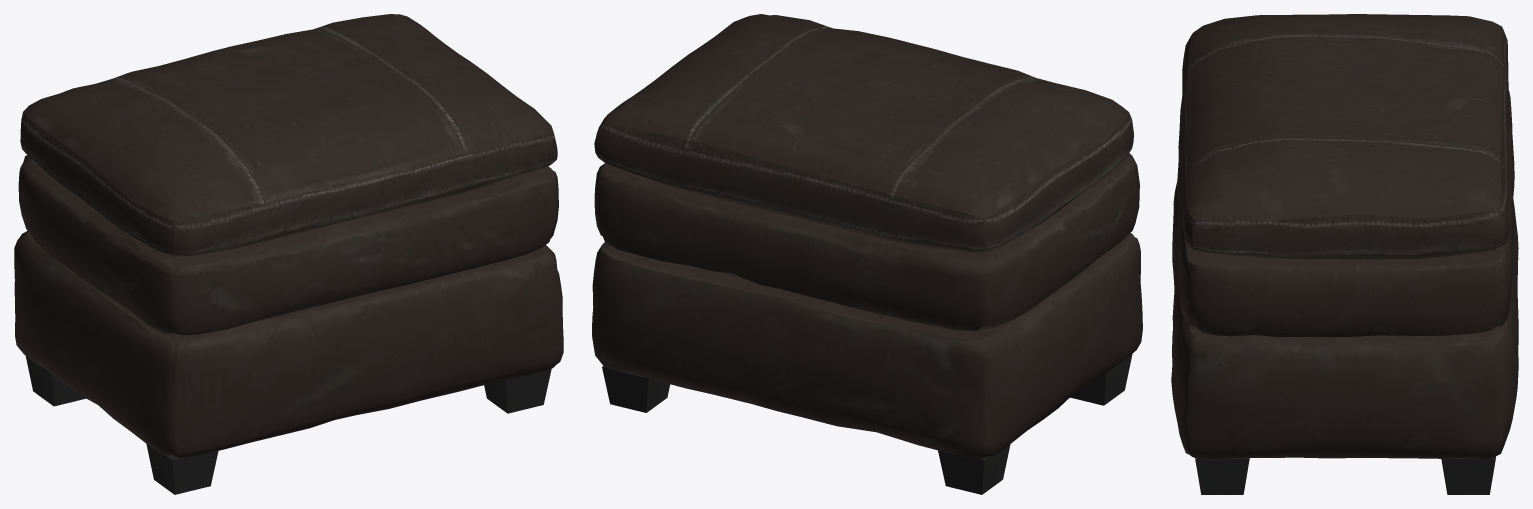
The model's file is Ottoman_01.glb.
3 renders of one model, left to right at view 1: azimuth 30°, elevation 25°; view 2: azimuth 150°, elevation 25°; view 3: azimuth 270°, elevation 25°, orthographic.
Parts seen in each view (by area): view 1: Ottoman_01; view 2: Ottoman_01; view 3: Ottoman_01.
Boxes of the visible parts, x1,y1,x2,y2 form: Ottoman_01: (14, 14, 563, 494); Ottoman_01: (592, 14, 1142, 494); Ottoman_01: (1171, 14, 1518, 494).
Bounding box in the file's own units: 0.8846 × 0.6243 × 0.6212.
Materials: 1 (1 with a texture image).
